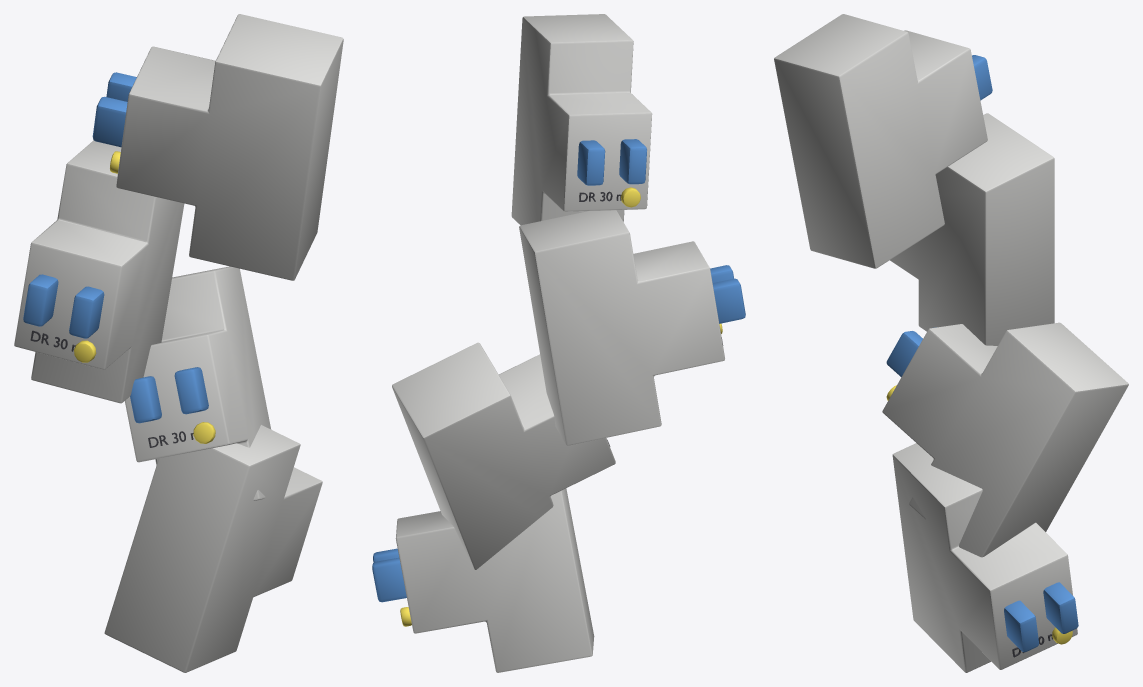
The model's file is ELE-QDR-006_anim.glb.
3 views of the same model, side by side, from view 1: azimuth 30°, elevation 25°; view 2: azimuth 150°, elevation 25°; view 3: azimuth 270°, elevation 25° (orthographic). The views are drawn at different scales.
Visible parts, largest first — view 1: ELE-QDR-006_anim3, ELE-QDR-006_anim0, ELE-QDR-006_anim2, ELE-QDR-006_anim1; view 2: ELE-QDR-006_anim2, ELE-QDR-006_anim1, ELE-QDR-006_anim3, ELE-QDR-006_anim0; view 3: ELE-QDR-006_anim3, ELE-QDR-006_anim1, ELE-QDR-006_anim0, ELE-QDR-006_anim2.
Part boxes in pixels (<box>): ELE-QDR-006_anim3: <box>92,14,343,280</box>; ELE-QDR-006_anim0: <box>104,425,322,672</box>; ELE-QDR-006_anim2: <box>14,140,184,403</box>; ELE-QDR-006_anim1: <box>124,266,271,500</box>; ELE-QDR-006_anim2: <box>519,210,745,445</box>; ELE-QDR-006_anim1: <box>392,342,615,569</box>; ELE-QDR-006_anim3: <box>511,14,652,225</box>; ELE-QDR-006_anim0: <box>372,488,594,672</box>; ELE-QDR-006_anim3: <box>774,14,992,268</box>; ELE-QDR-006_anim1: <box>882,322,1128,557</box>; ELE-QDR-006_anim0: <box>892,443,1078,672</box>; ELE-QDR-006_anim2: <box>890,113,1054,345</box>.
Bounding box in the file's own units: 0.1485 × 0.2674 × 0.1369.
